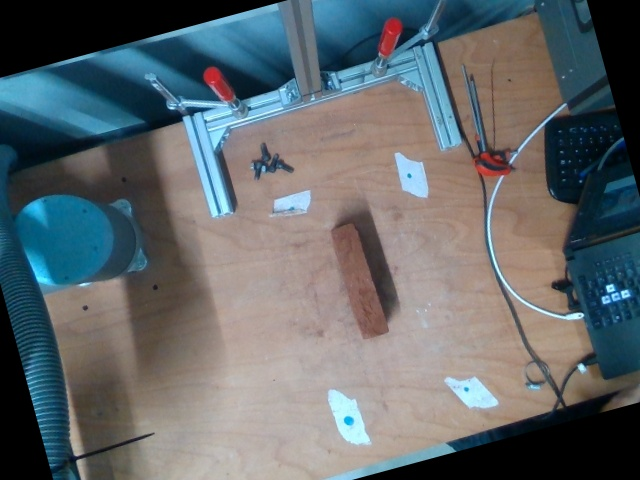brick-side: (330, 225, 388, 341)
